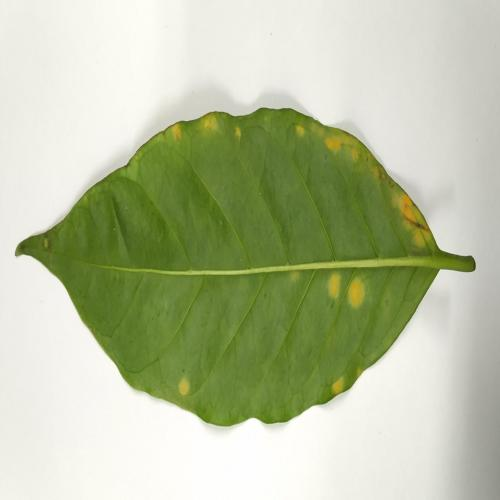phoma: (200, 112, 217, 130)
